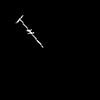treble_crochet: (17, 17, 40, 43)
